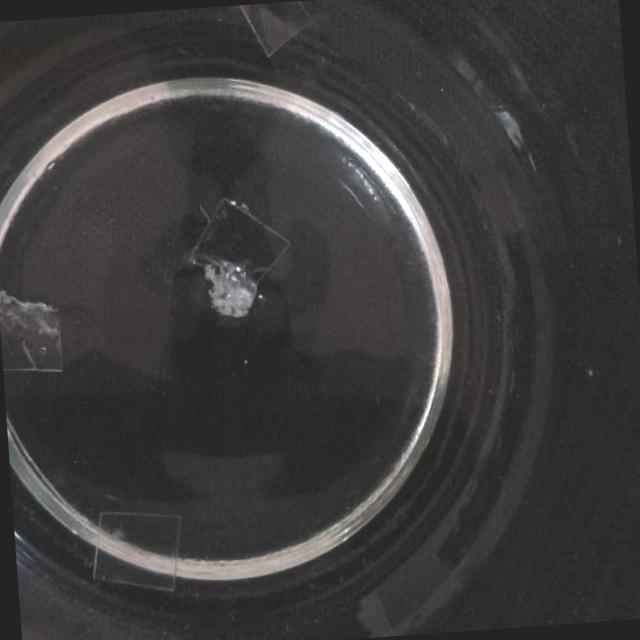fiber: (178, 192, 298, 324), (72, 504, 195, 599), (0, 284, 78, 376), (232, 1, 318, 71)
